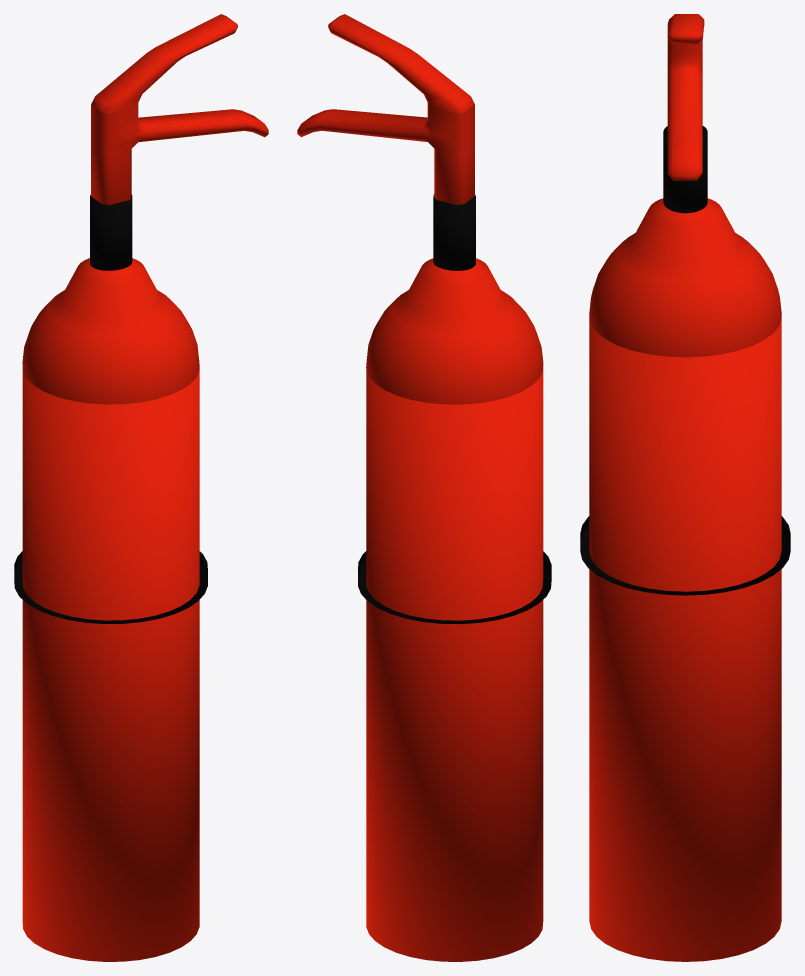
The model's file is extintor.gltf.
3 renders of one model, left to right at view 1: azimuth 30°, elevation 25°; view 2: azimuth 150°, elevation 25°; view 3: azimuth 270°, elevation 25°, orthographic. The views are drawn at different scales.
Visible parts, largest first — view 1: Cube; view 2: Cube; view 3: Cube.
Part boxes in pixels (x1,y1,x2,y2): Cube: [14, 14, 268, 961]; Cube: [297, 14, 551, 961]; Cube: [580, 14, 790, 961].
Bounding box in the file's own units: 0.4478 × 1.59 × 0.3189.
